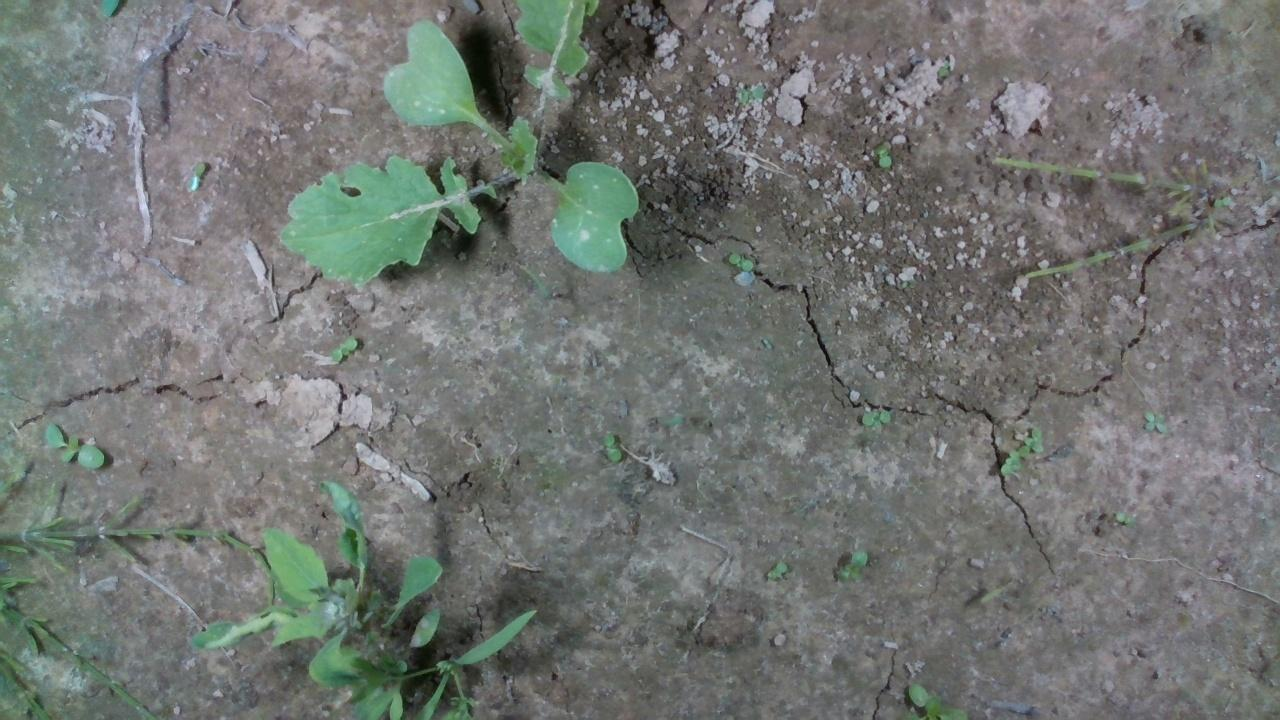weed: (1136, 406, 1176, 439), (862, 402, 895, 441), (597, 428, 628, 466), (326, 333, 367, 361), (725, 242, 760, 273), (873, 142, 899, 175), (765, 553, 794, 578)
